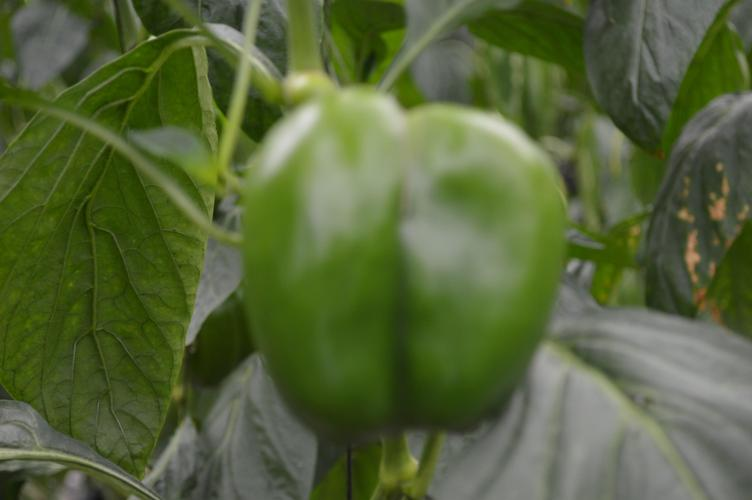BellPepper: (228, 88, 578, 454)
